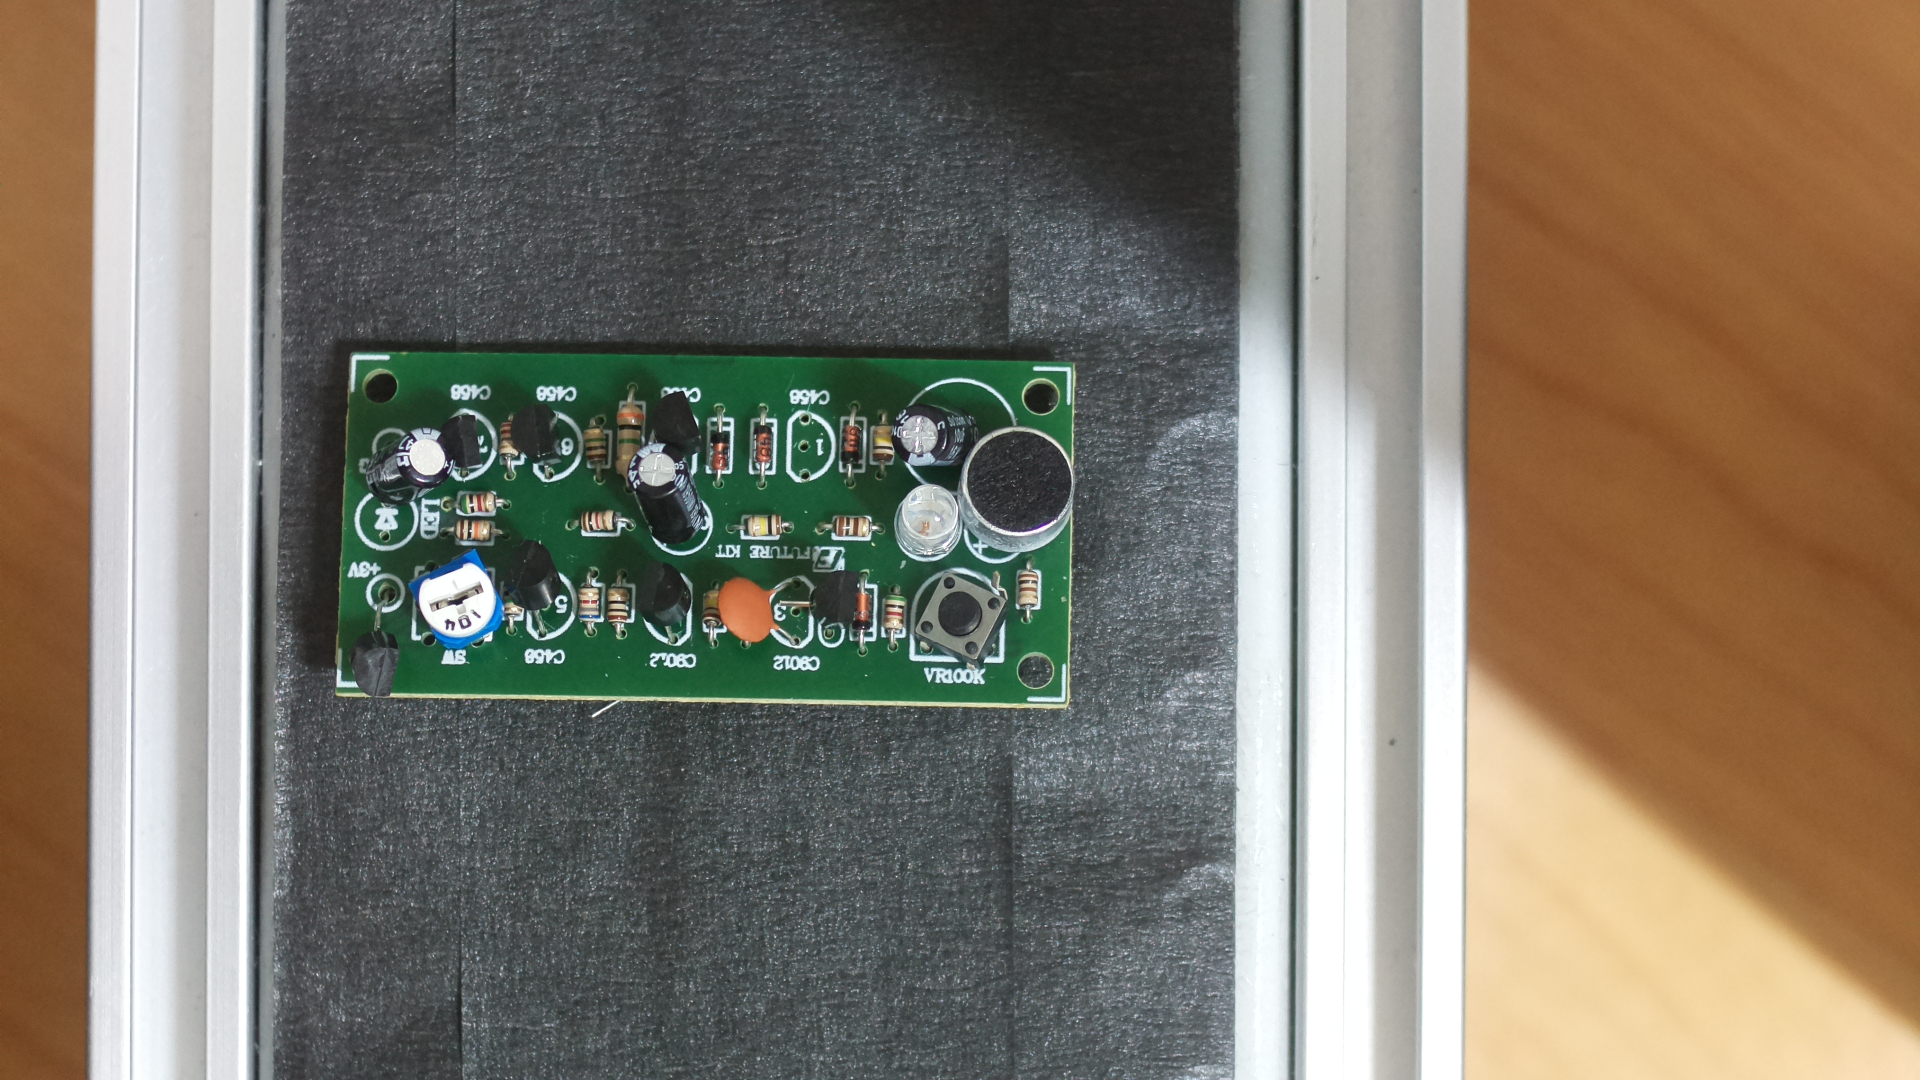A_Misordered: (327, 327, 1102, 724)
